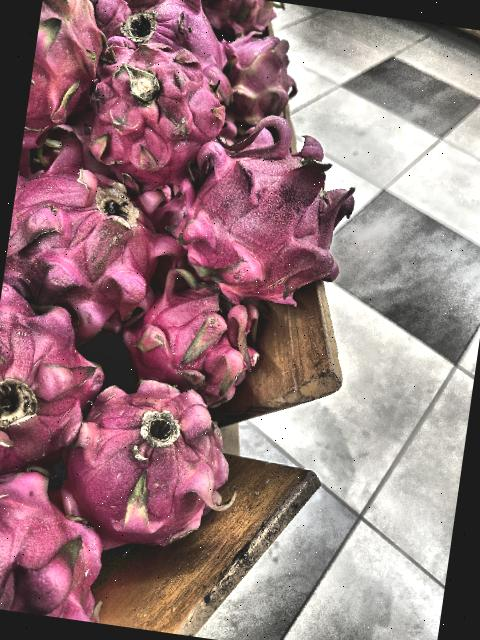buah-naga-belum-matang: (23, 0, 116, 158)
buah-naga-matang: (56, 366, 255, 562), (0, 134, 188, 340), (172, 114, 363, 308), (112, 250, 278, 405), (80, 28, 236, 184), (0, 279, 116, 476), (0, 461, 128, 625), (209, 24, 313, 133), (86, 0, 236, 73)
